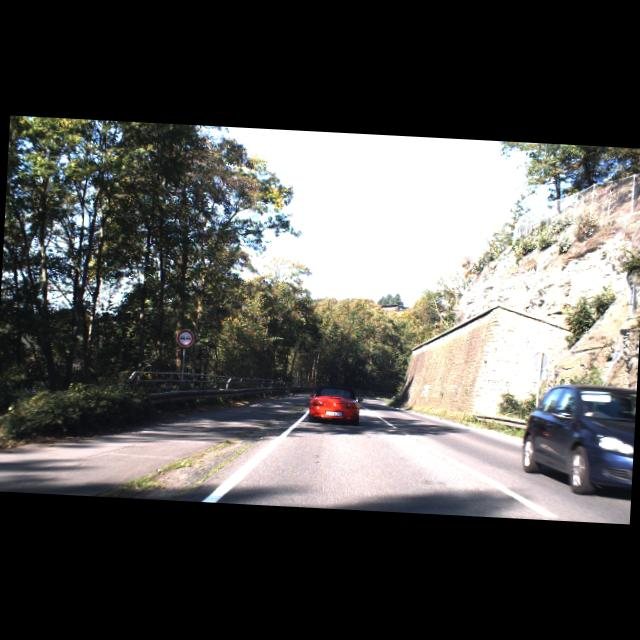prohibitory: (177, 328, 196, 348)
